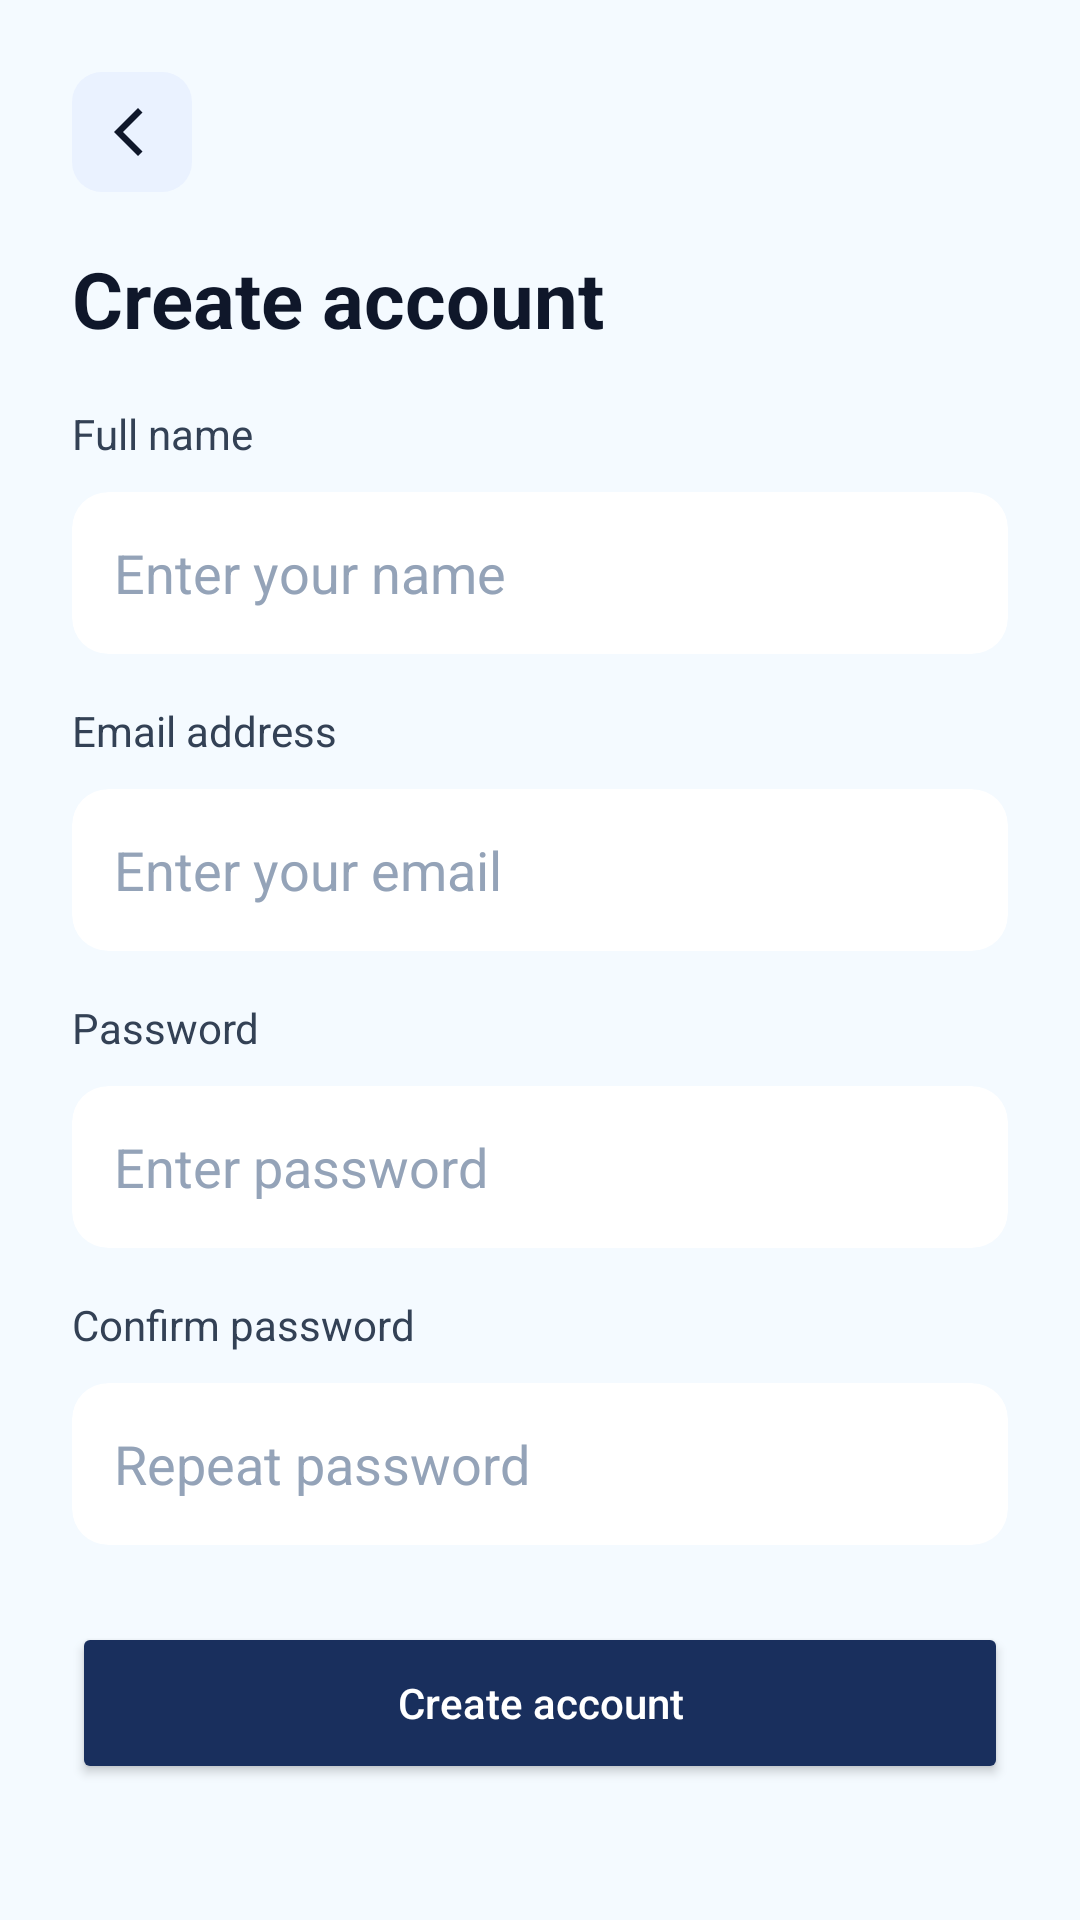

Where to tap for icons on this 1080 x 1920 app screen, as (x,y):
Back: (132,132)
